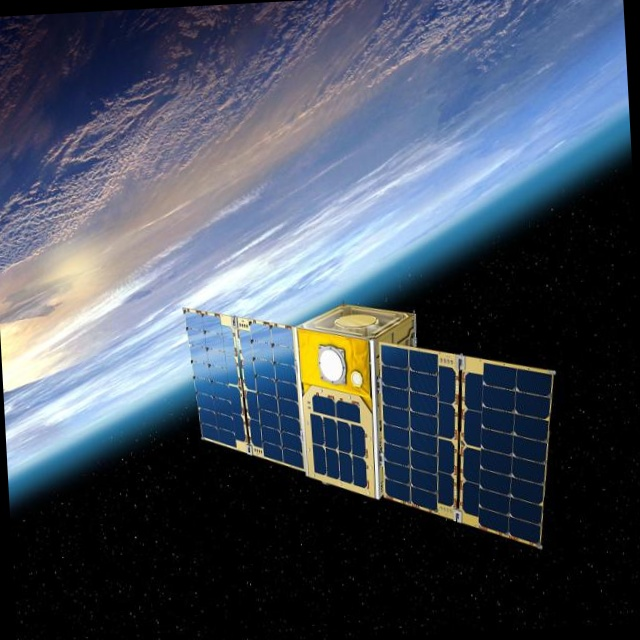satellite: (175, 268, 574, 579)
